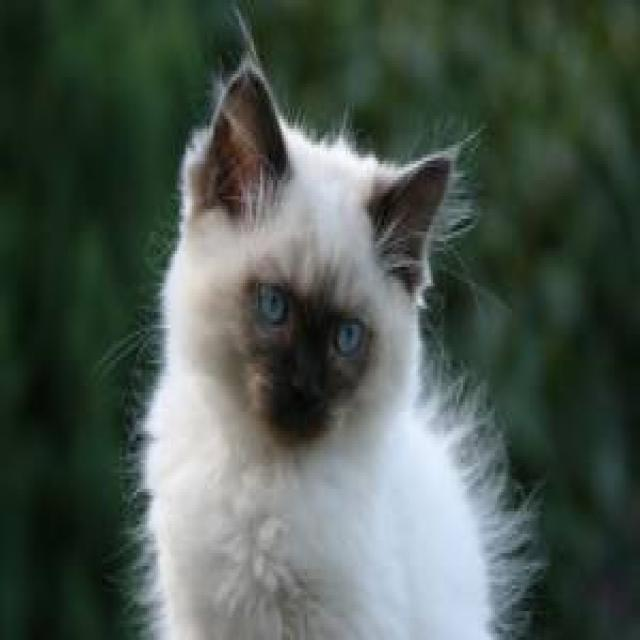Ragdoll: (173, 51, 454, 460)
